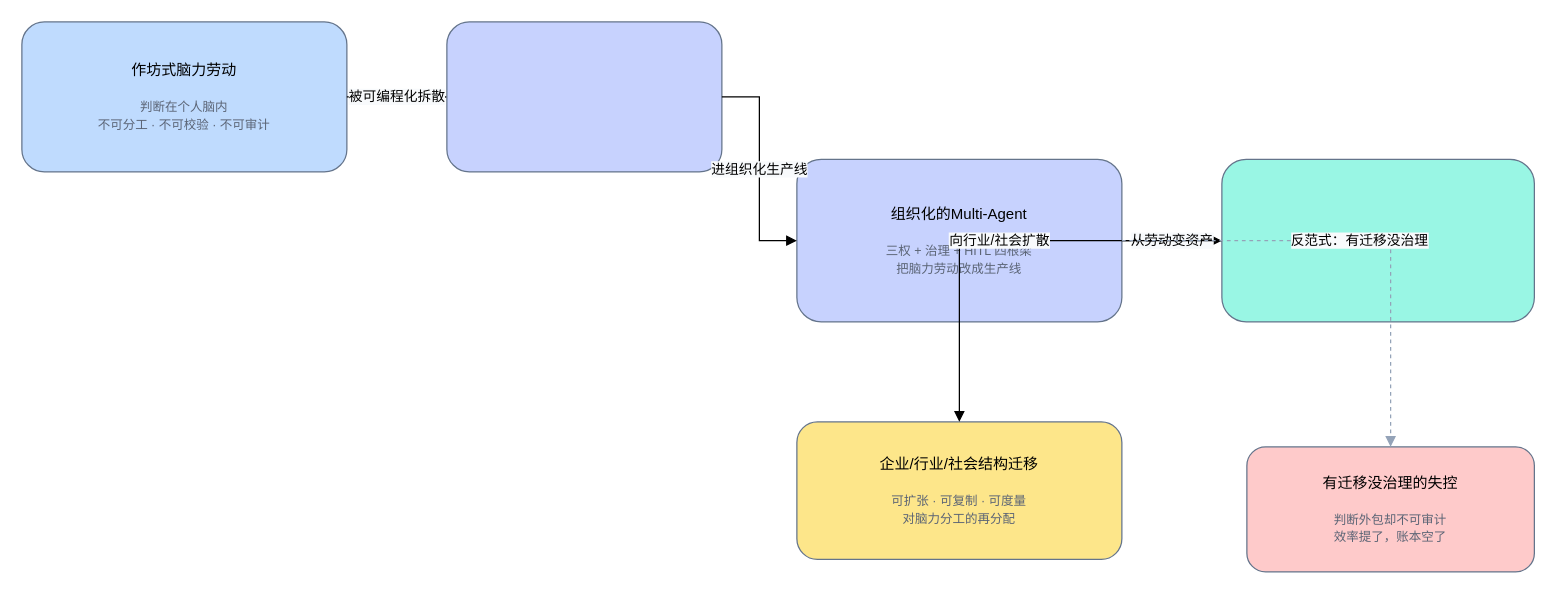
This 1556x594 diagram has some shape labels left out. The shapes that lost their labels are listed below. From the top down, each one's centre as x and y in pixels, then its label:
At (584,96): "判断可编程化 分工可切 + 校验可查 + 审计留痕 判断从天赋变成可生产的资源".
At (1377,240): "改写后的生产力结构 判断从稀缺天赋变可编程资源 从个人劳动变组织资产".
